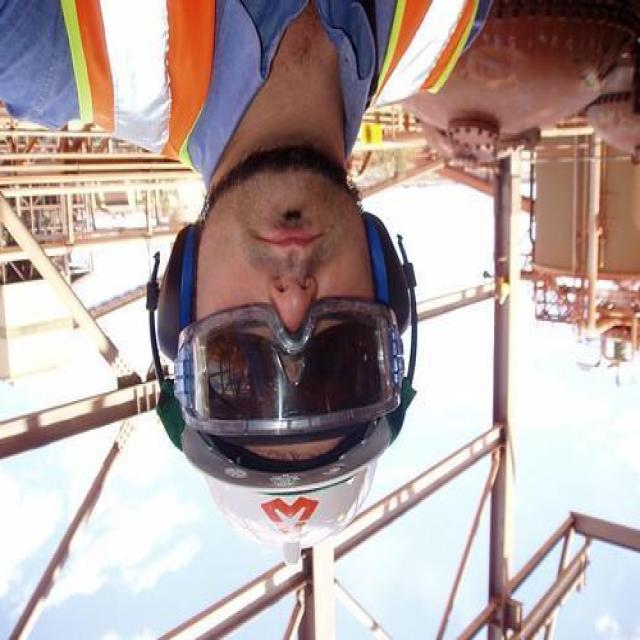helmet: (182, 454, 438, 554)
